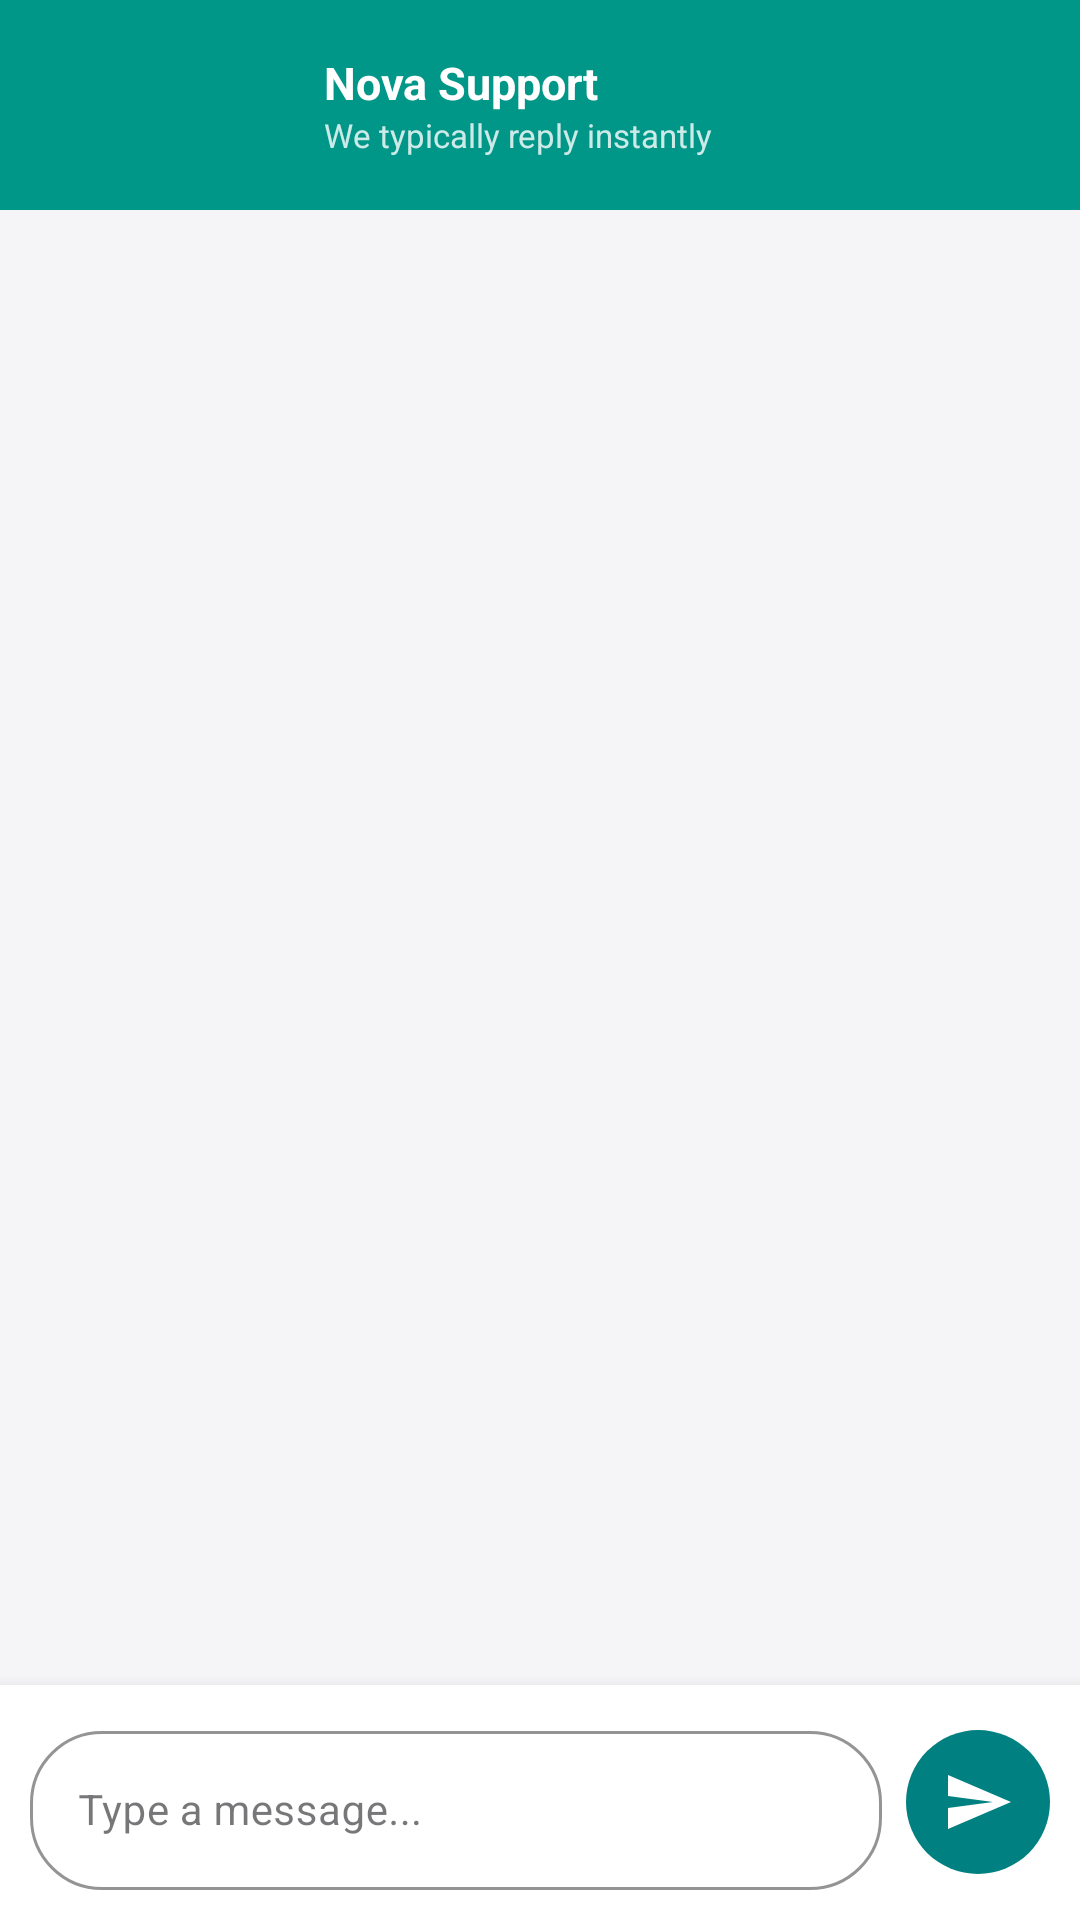

Named icons in this screenshot (1080w x 1920h) and their bounding boxes, box=[x1, y1, x2, y2]:
send: box=[906, 1730, 1050, 1874]
